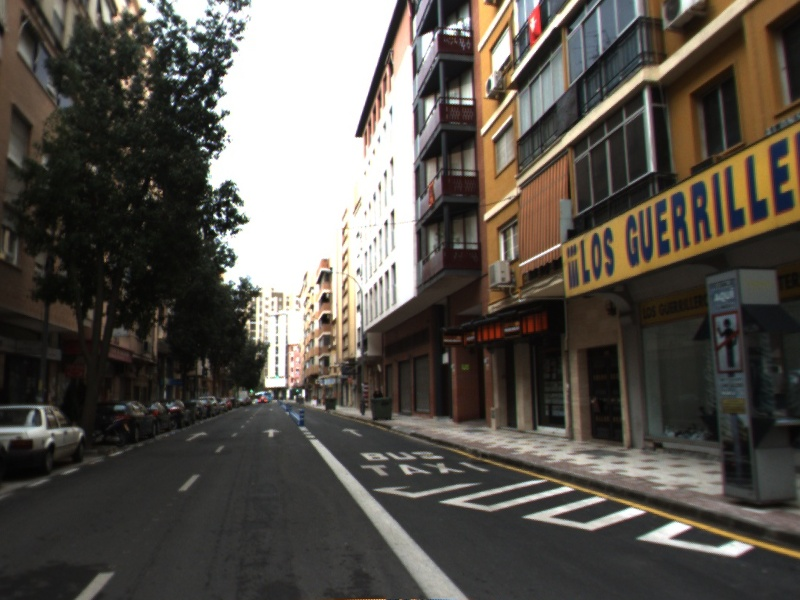STRAIGHT: (339, 425, 365, 439), (184, 430, 210, 443), (260, 426, 283, 439)
